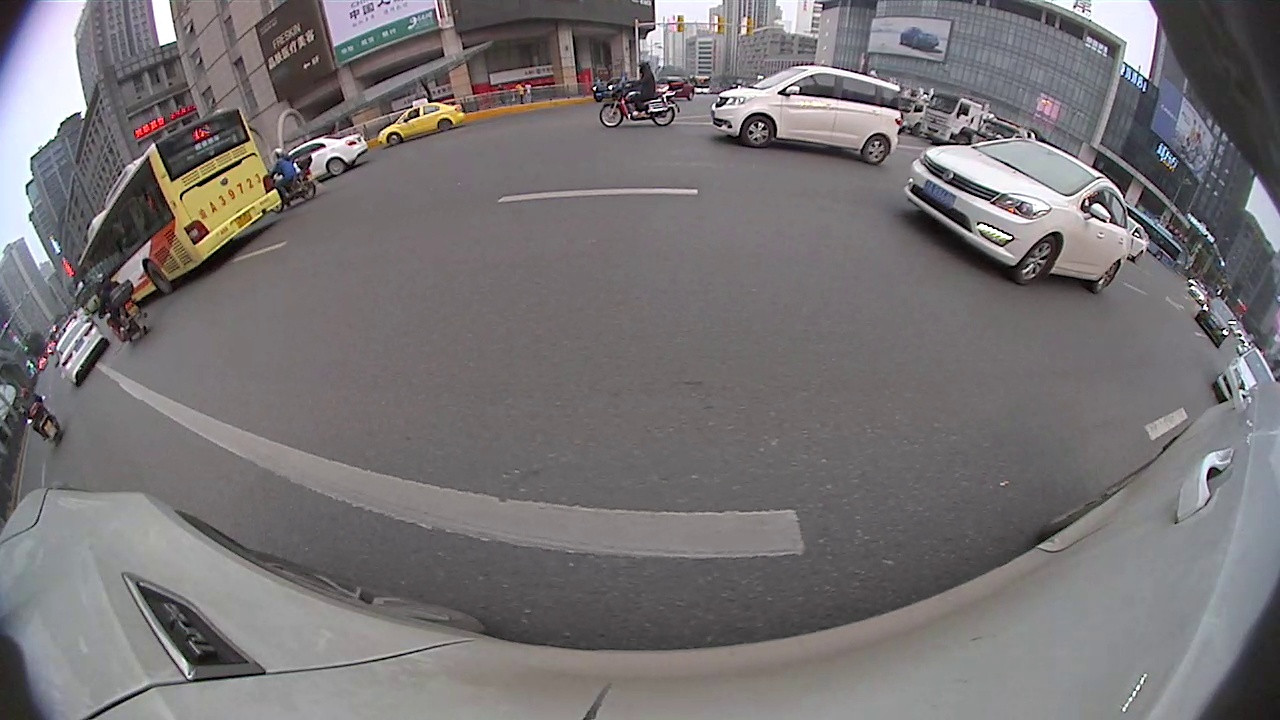bus: (72, 106, 286, 307)
car: (902, 140, 1137, 299), (710, 62, 904, 170), (274, 131, 368, 197), (373, 96, 464, 151), (1213, 347, 1279, 413), (48, 317, 109, 387), (1194, 291, 1238, 350)
front: (1012, 232, 1059, 289), (739, 114, 773, 151), (598, 102, 625, 128), (386, 132, 403, 148)
rear: (1088, 258, 1121, 294), (142, 260, 173, 297), (862, 134, 892, 167), (651, 107, 676, 128), (325, 158, 346, 178), (435, 118, 454, 133)
rider: (594, 61, 680, 131), (98, 277, 148, 342), (12, 388, 67, 443)
